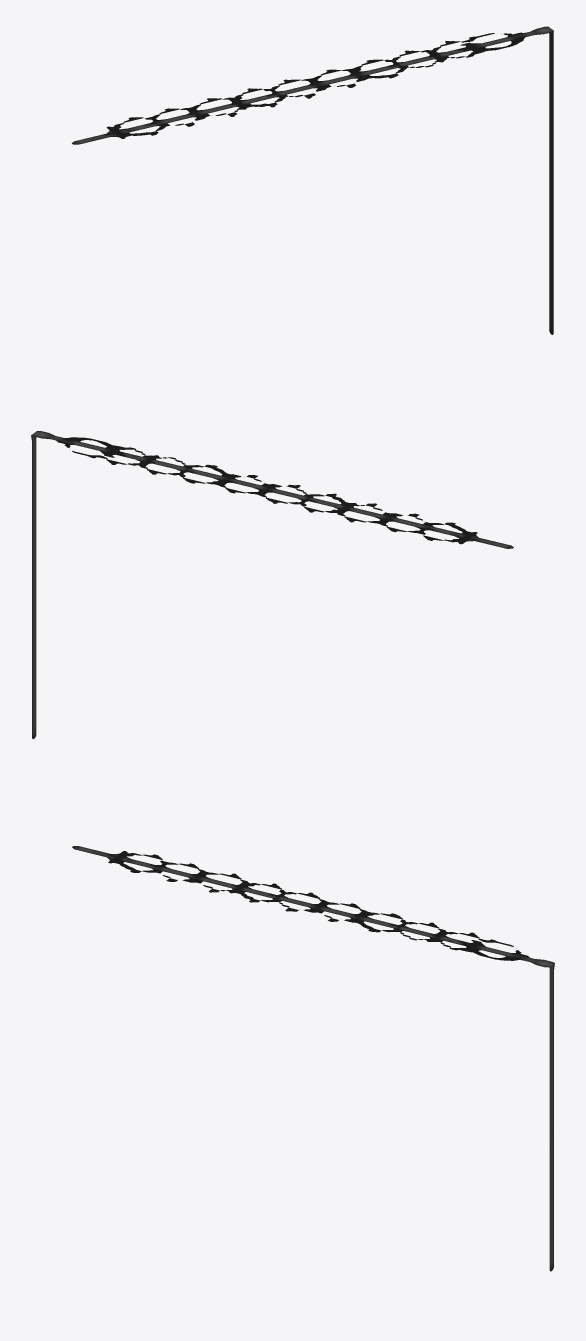
File: FenceVertical.fbx
The picture shows the model from 3 angles, top to bottom: view 1: azimuth 30°, elevation 25°; view 2: azimuth 150°, elevation 25°; view 3: azimuth 330°, elevation 25°; orthographic projection.
Parts seen in each view (by area): view 1: pCube3; view 2: pCube3; view 3: pCube3.
Part boxes in pixels (x1,y1,x2,y2): pCube3: [72, 26, 553, 334]; pCube3: [31, 431, 513, 739]; pCube3: [72, 846, 554, 1271].
Bounding box in the file's own units: 282 × 181 × 38.51.
Materials: 1 (1 with a texture image).
